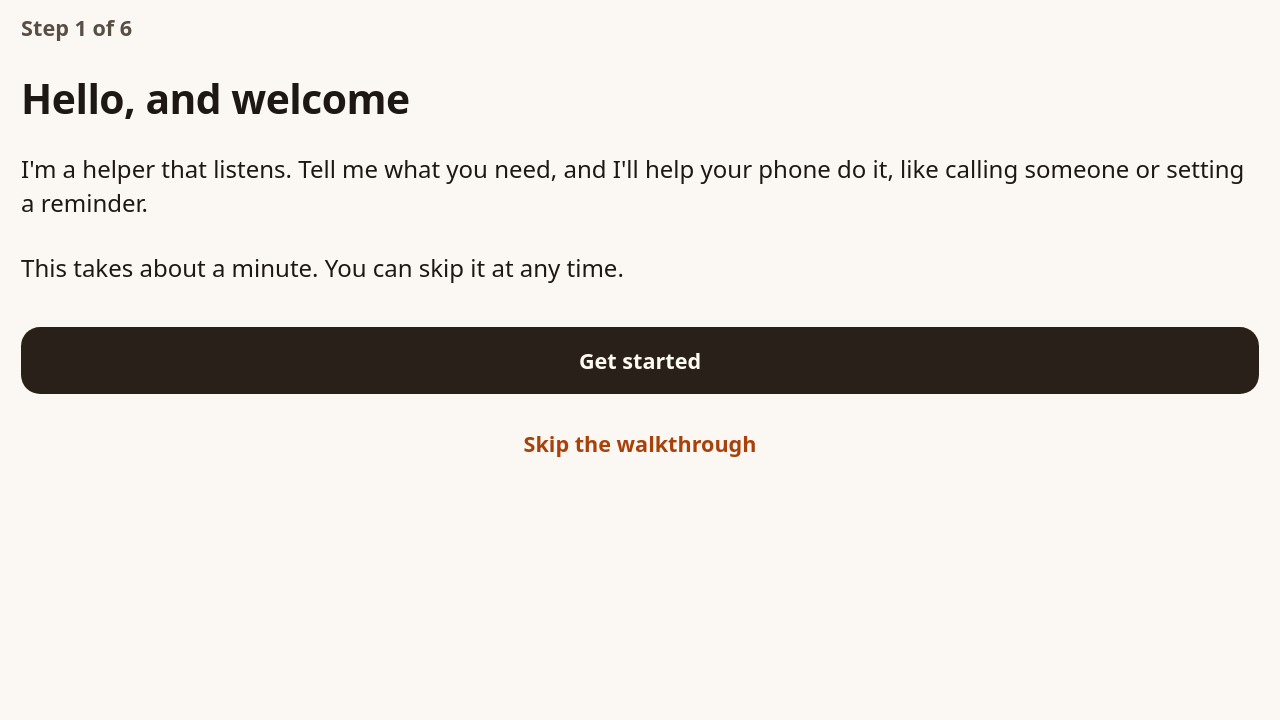
Scenario: onboarding › Back works, and Skip finishes immediately without asking for anything
Later steps or results of the test are not shown.
Click the button "Get started" at coordinates (640, 361), box [21,327,1259,394]
(page scrolled)
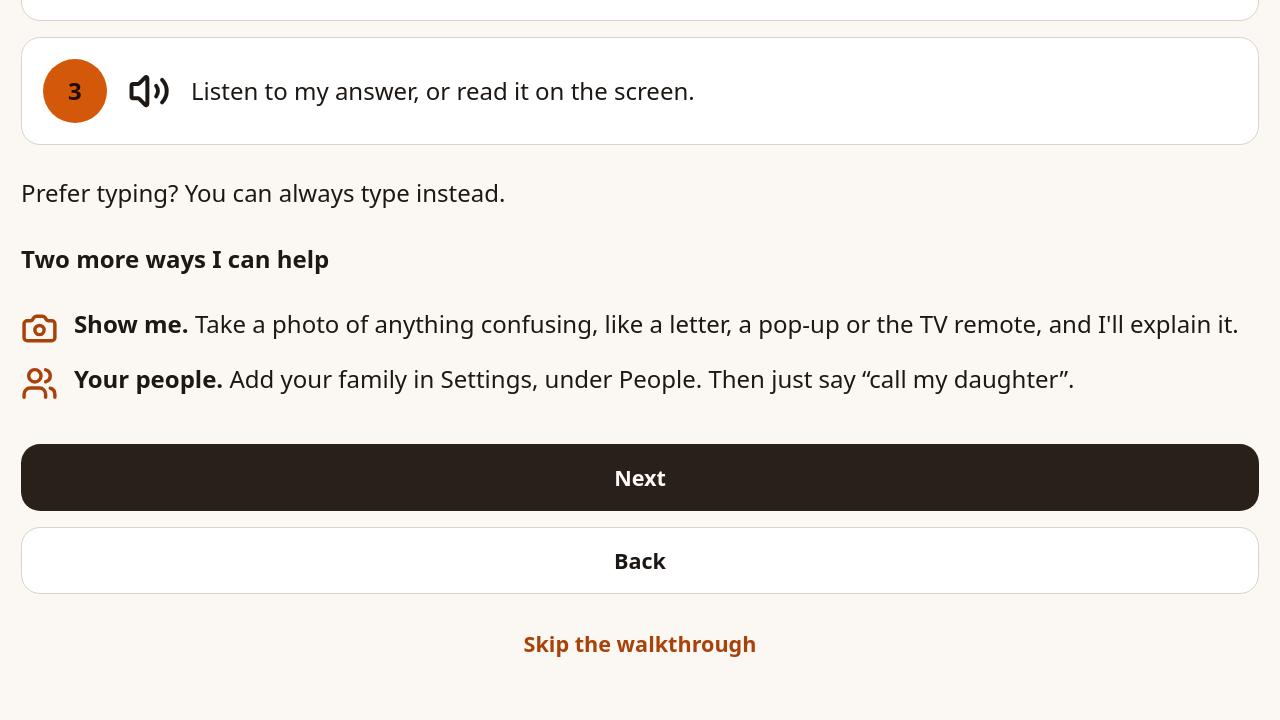
Click the button "Back" at coordinates (640, 561), box [21,527,1259,594]
(page scrolled)
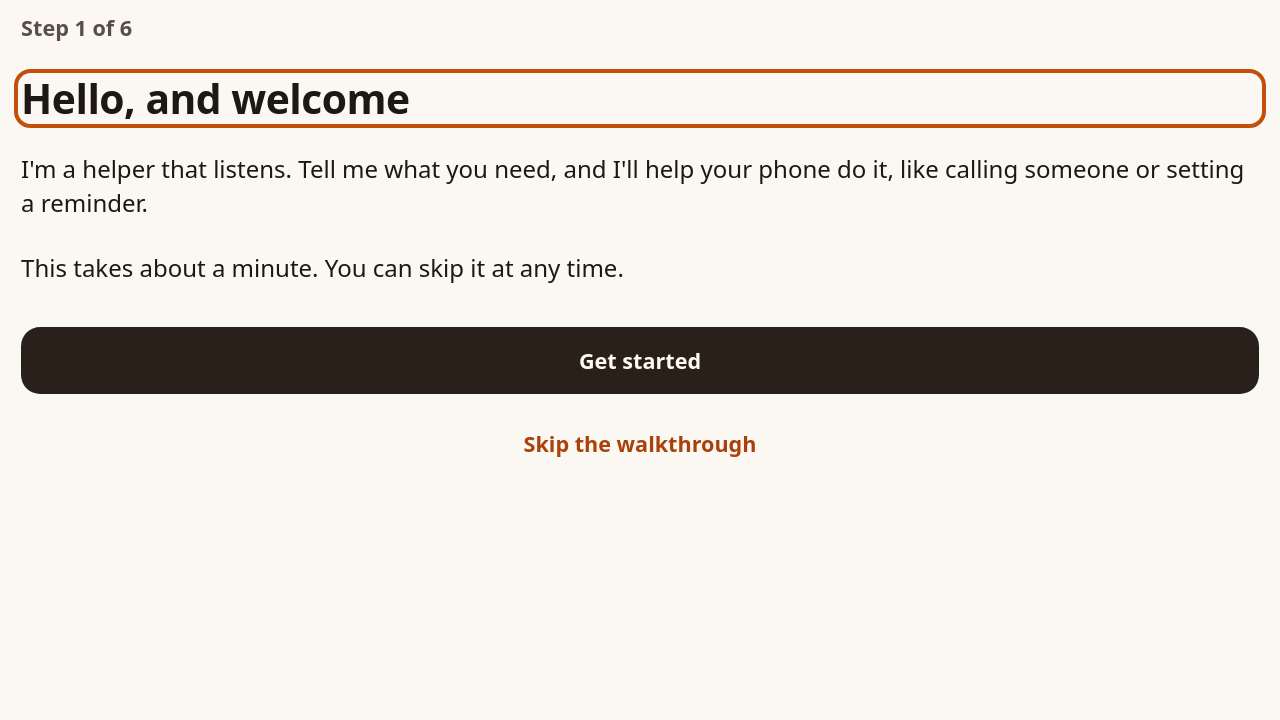
Now the text with test id "progress" reads "Step 1 of 6", box [21,12,132,42]
